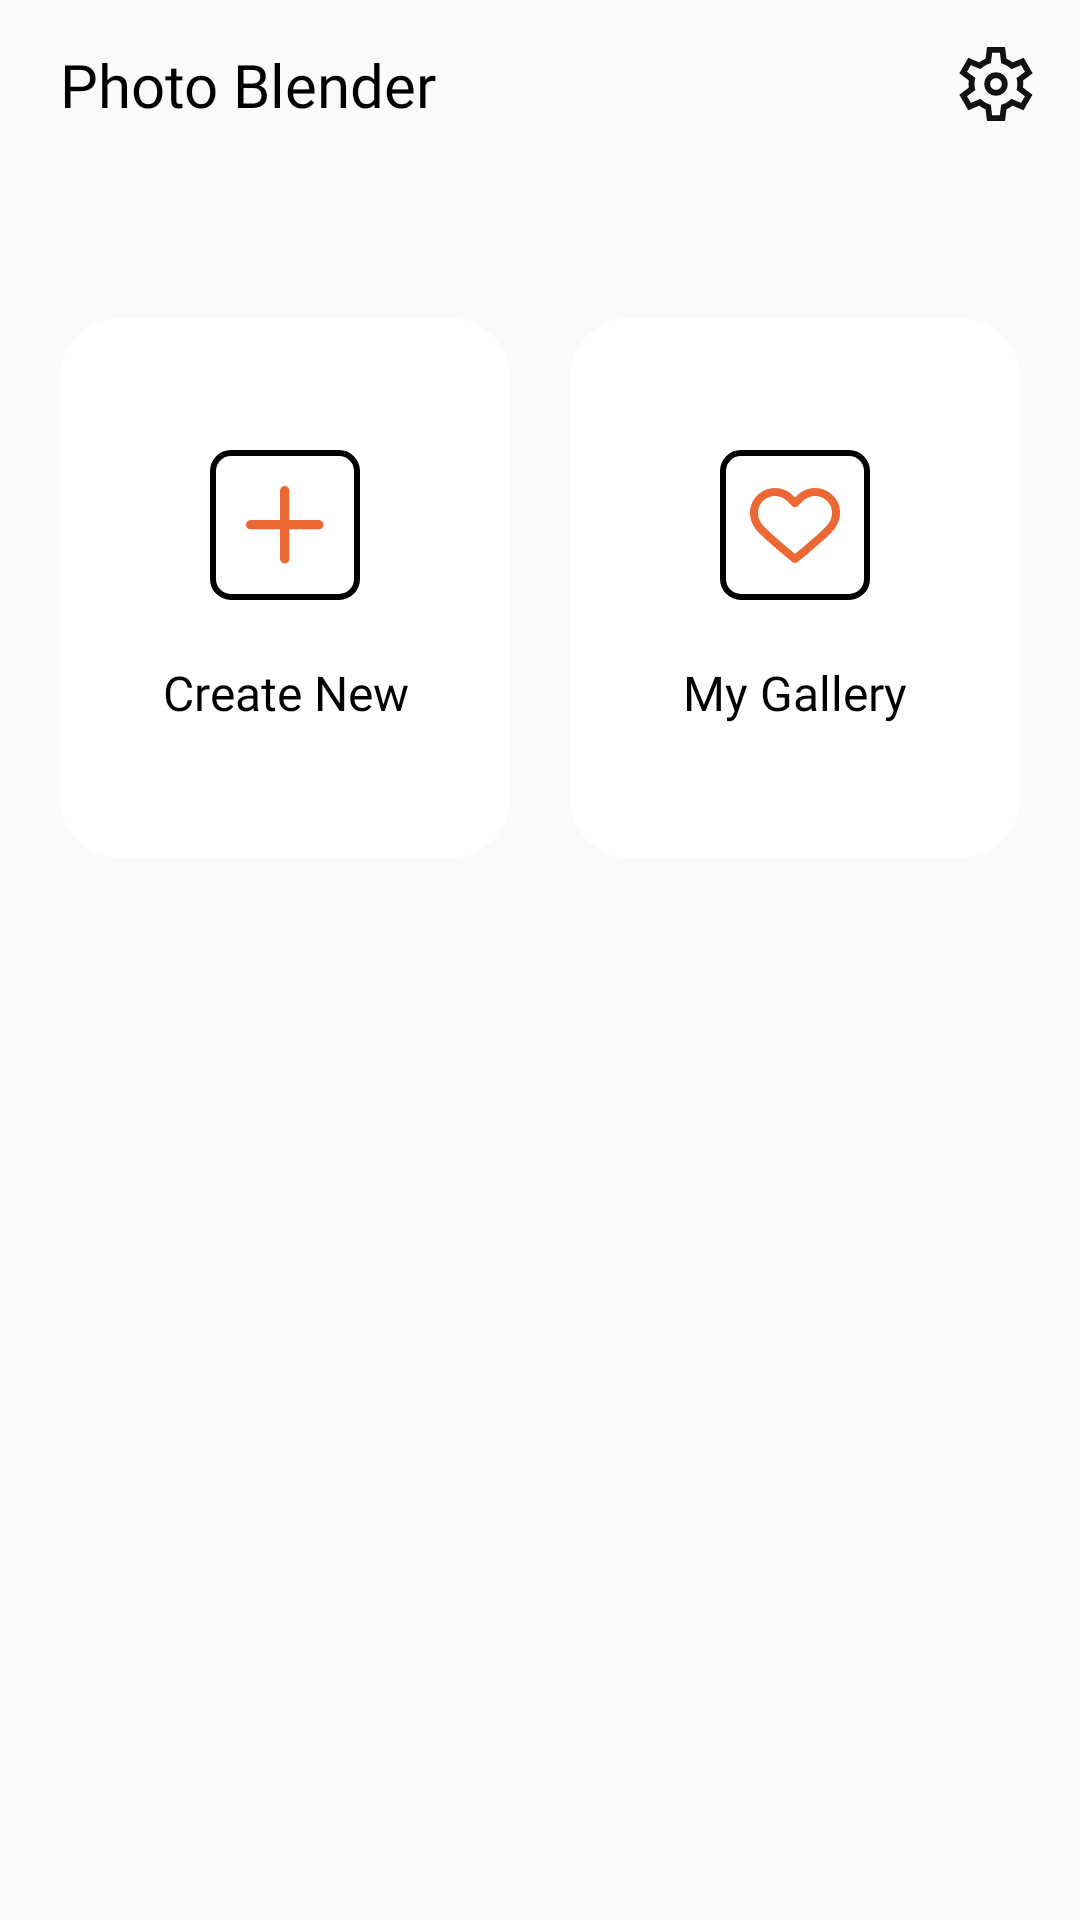

Icon click points for this 1080w x 1920h phone screenshot, format (x=x, y=y):
add: (x=285, y=525)
love: (x=795, y=525)
settings: (x=996, y=84)
